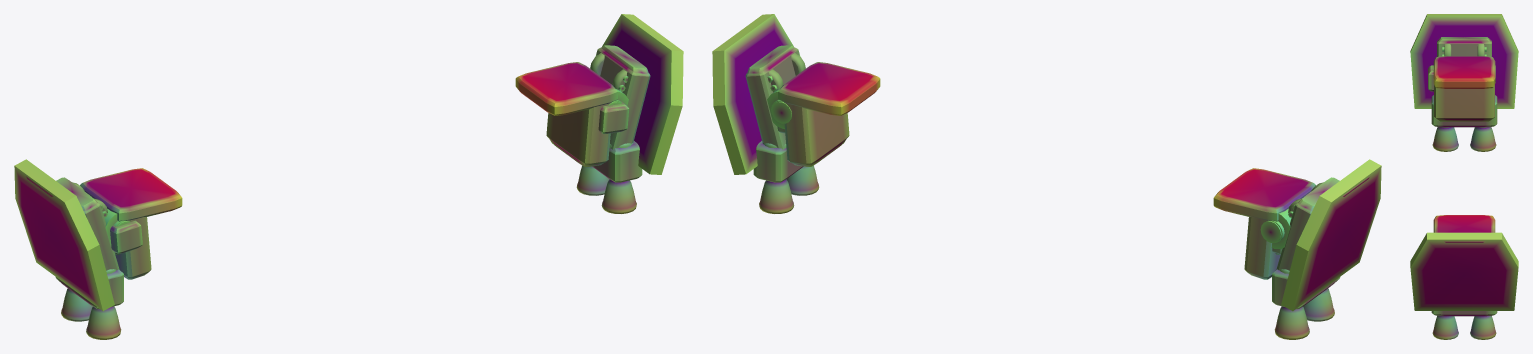
Rendered from llm_gen_shoulder_pods_068_c6e47d.glb.
3 views of the same model, side by side, from view 1: azimuth 30°, elevation 25°; view 2: azimuth 150°, elevation 25°; view 3: azimuth 270°, elevation 25° (orthographic). The views are drawn at different scales.
Visible parts, largest first — view 1: samurai_lower_tier_2_wing_white_l, adapter_shoulder_yoke_r, samurai_lower_tier_2_wing_white_r, adapter_shoulder_yoke_l, adapter_sub_sode_frame_dark_0_adapter_dark_r, adapter_sub_sode_frame_dark_0_adapter_dark_l, samurai_mount_bracket_5_adapter_dark_r, samurai_vernier_b_7_vernier_bell_vernier_r, samurai_vernier_b_7_vernier_bell_vernier_l, adapter_sh_front_latch_dark_8_adapter_dark_l, adapter_sh_front_latch_dark_8_adapter_dark_r, samurai_vernier_a_6_vernier_bell_vernier_r (+2 smaller); view 2: samurai_lower_tier_2_wing_white_l, adapter_shoulder_yoke_r, samurai_lower_tier_2_wing_white_r, adapter_shoulder_yoke_l, adapter_sub_sode_frame_dark_0_adapter_dark_r, adapter_sub_sode_frame_dark_0_adapter_dark_l, samurai_mount_bracket_5_adapter_dark_r, samurai_vernier_a_6_vernier_bell_vernier_r, samurai_vernier_a_6_vernier_bell_vernier_l, samurai_vernier_b_7_vernier_bell_vernier_r, samurai_vernier_b_7_vernier_bell_vernier_l, samurai_mount_bracket_5_adapter_dark_l; view 3: samurai_lower_tier_2_wing_white_r, samurai_lower_tier_2_wing_white_l, adapter_shoulder_yoke_l, adapter_shoulder_yoke_r, adapter_sub_sode_frame_dark_0_adapter_dark_l, samurai_mount_bracket_5_adapter_dark_l, samurai_vernier_a_6_vernier_bell_vernier_l, samurai_vernier_b_7_vernier_bell_vernier_l, samurai_vernier_a_6_vernier_bell_vernier_r, samurai_vernier_b_7_vernier_bell_vernier_r, samurai_mount_bracket_5_adapter_dark_r, servo_1_servo_accent_l (+1 smaller).
Boxes of the visible parts, x1=… form: samurai_lower_tier_2_wing_white_l: x1=14, y1=159, x2=114, y2=311; adapter_shoulder_yoke_r: x1=515, y1=62, x2=628, y2=166; samurai_lower_tier_2_wing_white_r: x1=602, y1=14, x2=683, y2=174; adapter_shoulder_yoke_l: x1=80, y1=168, x2=182, y2=279; adapter_sub_sode_frame_dark_0_adapter_dark_r: x1=596, y1=45, x2=650, y2=149; adapter_sub_sode_frame_dark_0_adapter_dark_l: x1=56, y1=177, x2=119, y2=270; samurai_mount_bracket_5_adapter_dark_r: x1=592, y1=141, x2=642, y2=182; samurai_vernier_b_7_vernier_bell_vernier_r: x1=601, y1=179, x2=636, y2=213; samurai_vernier_b_7_vernier_bell_vernier_l: x1=86, y1=306, x2=121, y2=339; adapter_sh_front_latch_dark_8_adapter_dark_l: x1=110, y1=220, x2=142, y2=253; adapter_sh_front_latch_dark_8_adapter_dark_r: x1=598, y1=101, x2=628, y2=133; samurai_vernier_a_6_vernier_bell_vernier_r: x1=576, y1=165, x2=609, y2=195; samurai_lower_tier_2_wing_white_l: x1=1281, y1=159, x2=1381, y2=311; adapter_shoulder_yoke_r: x1=767, y1=62, x2=880, y2=166; samurai_lower_tier_2_wing_white_r: x1=712, y1=14, x2=793, y2=174; adapter_shoulder_yoke_l: x1=1213, y1=168, x2=1315, y2=279; adapter_sub_sode_frame_dark_0_adapter_dark_r: x1=745, y1=45, x2=799, y2=149; adapter_sub_sode_frame_dark_0_adapter_dark_l: x1=1276, y1=177, x2=1339, y2=270; samurai_mount_bracket_5_adapter_dark_r: x1=753, y1=141, x2=803, y2=182; samurai_vernier_a_6_vernier_bell_vernier_r: x1=759, y1=179, x2=794, y2=213; samurai_vernier_a_6_vernier_bell_vernier_l: x1=1274, y1=306, x2=1309, y2=339; samurai_vernier_b_7_vernier_bell_vernier_r: x1=786, y1=165, x2=819, y2=195; samurai_vernier_b_7_vernier_bell_vernier_l: x1=1303, y1=288, x2=1334, y2=321; samurai_mount_bracket_5_adapter_dark_l: x1=1272, y1=269, x2=1340, y2=309; samurai_lower_tier_2_wing_white_r: x1=1410, y1=232, x2=1518, y2=310; samurai_lower_tier_2_wing_white_l: x1=1410, y1=14, x2=1518, y2=108; adapter_shoulder_yoke_l: x1=1433, y1=56, x2=1495, y2=121; adapter_shoulder_yoke_r: x1=1433, y1=215, x2=1495, y2=232; adapter_sub_sode_frame_dark_0_adapter_dark_l: x1=1437, y1=37, x2=1491, y2=56; samurai_mount_bracket_5_adapter_dark_l: x1=1431, y1=95, x2=1497, y2=127; samurai_vernier_a_6_vernier_bell_vernier_l: x1=1470, y1=127, x2=1496, y2=151; samurai_vernier_b_7_vernier_bell_vernier_l: x1=1432, y1=127, x2=1458, y2=151; samurai_vernier_a_6_vernier_bell_vernier_r: x1=1470, y1=316, x2=1496, y2=339; samurai_vernier_b_7_vernier_bell_vernier_r: x1=1432, y1=316, x2=1458, y2=339; samurai_mount_bracket_5_adapter_dark_r: x1=1431, y1=311, x2=1497, y2=316; servo_1_servo_accent_l: x1=1444, y1=44, x2=1484, y2=56.
Bounding box in the file's own units: 112 × 26.94 × 22.67.
